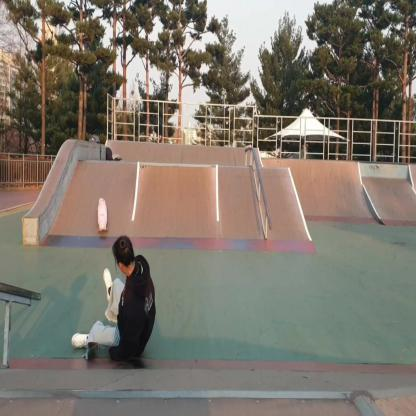Fall_Down: (71, 232, 159, 364)
